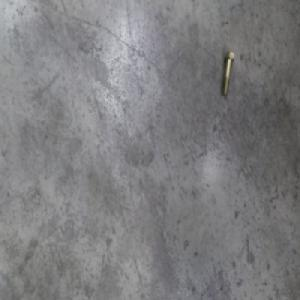Bolt: (221, 51, 234, 96)
